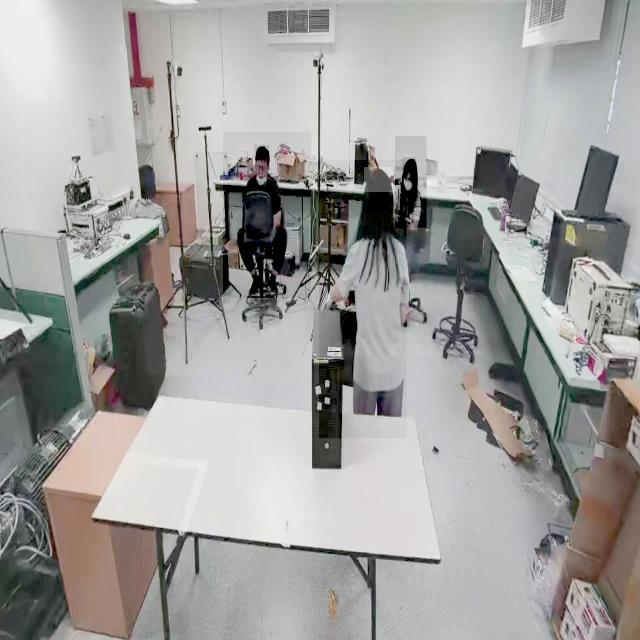face_mask: (402, 169, 413, 190)
face_nomask: (255, 161, 269, 185)
head_nohelmet: (364, 167, 394, 193), (254, 145, 270, 158), (403, 157, 417, 171)
person: (319, 160, 407, 439), (223, 132, 311, 298), (395, 136, 427, 228)
shoes: (266, 271, 280, 298), (246, 272, 260, 298)
